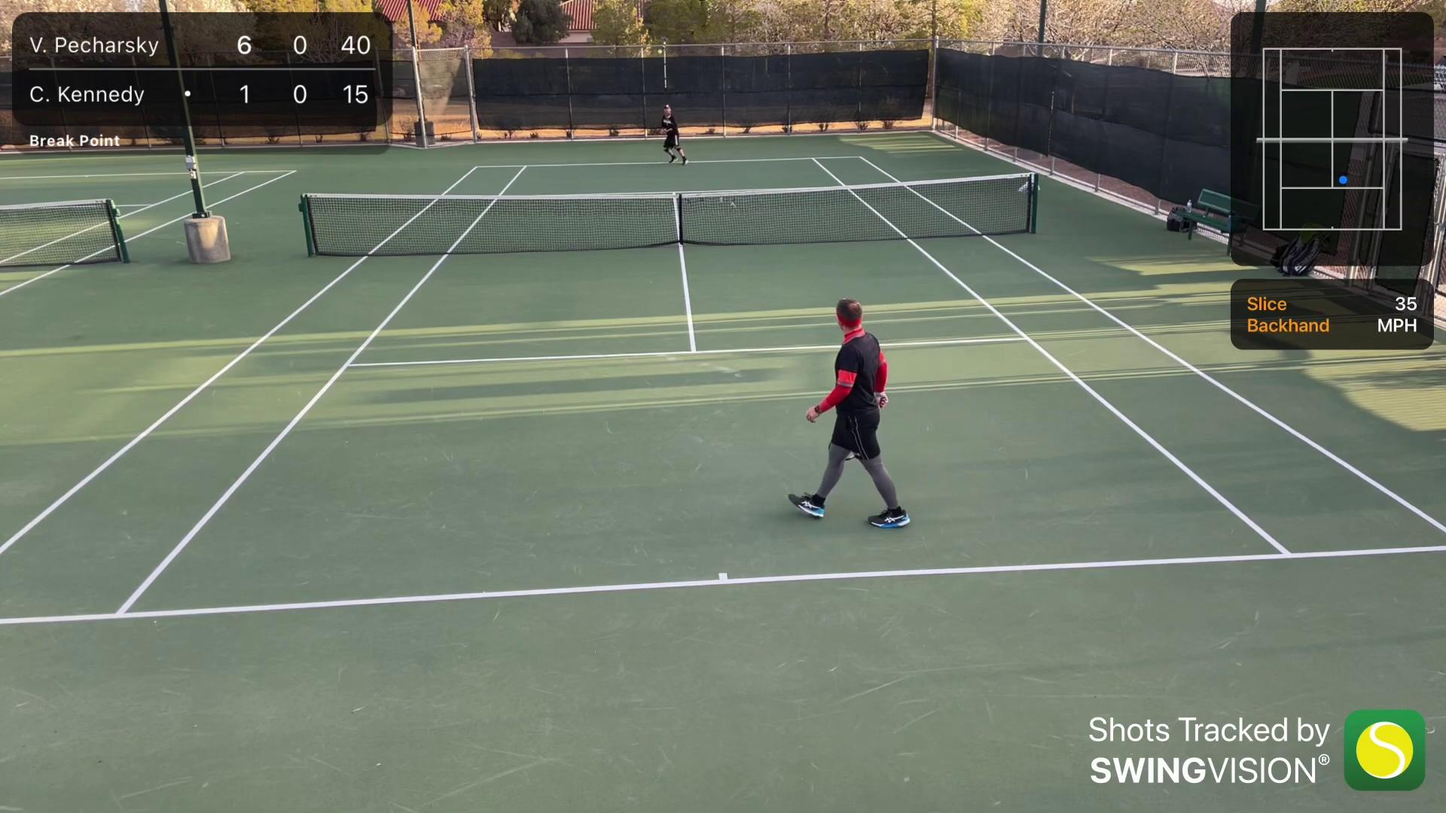ball: (655, 48, 664, 55)
